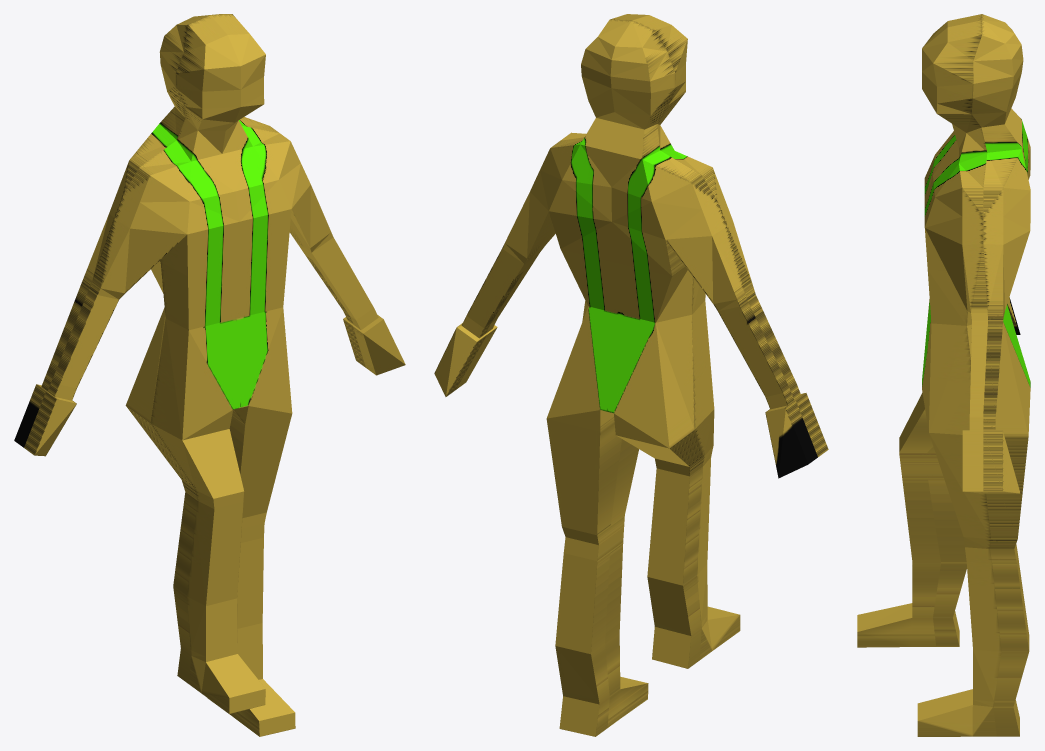
The picture shows the model from 3 angles, left to right: view 1: azimuth 30°, elevation 25°; view 2: azimuth 150°, elevation 25°; view 3: azimuth 270°, elevation 25°; orthographic projection. The views are drawn at different scales.
Visible parts, largest first — view 1: Borat; view 2: Borat; view 3: Borat.
Part boxes in pixels (box(x1,y1,x2,y2)): Borat: box(14, 14, 405, 736); Borat: box(434, 14, 828, 736); Borat: box(857, 14, 1030, 736).
Size of the model in its own units: 1.79 by 3.23 by 0.7356.
